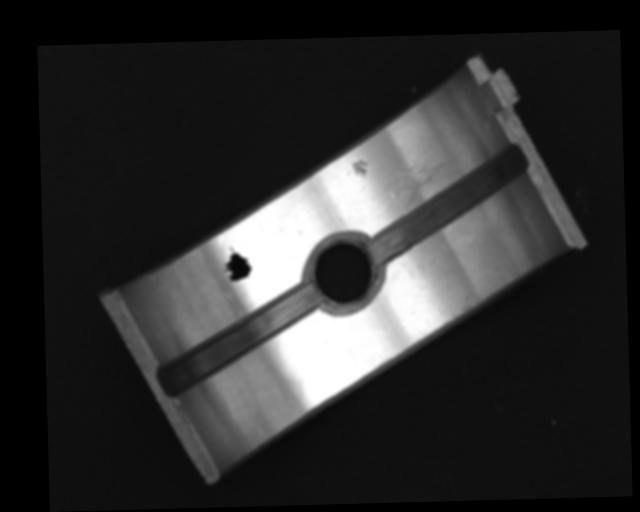blot: (222, 245, 253, 284)
bruise: (346, 158, 368, 177)
gap: (369, 144, 530, 265), (157, 282, 316, 395)
hole: (306, 236, 381, 310)
scratch: (391, 150, 467, 214)
